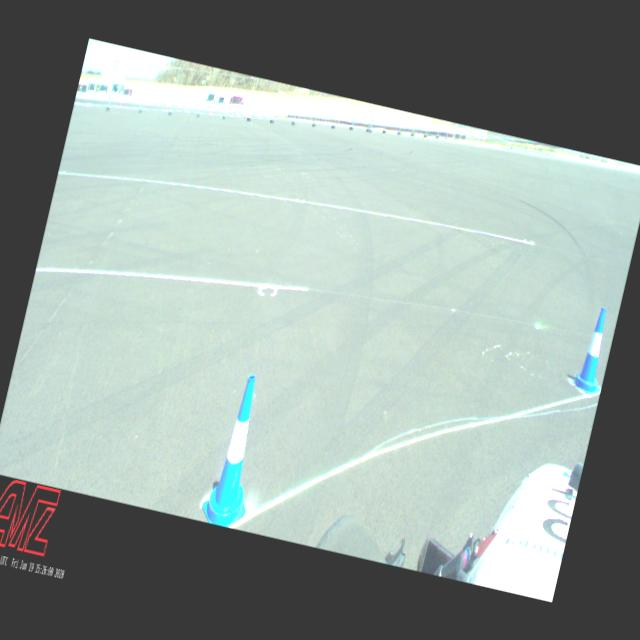blue_cone: (198, 370, 276, 530), (570, 304, 618, 396)
